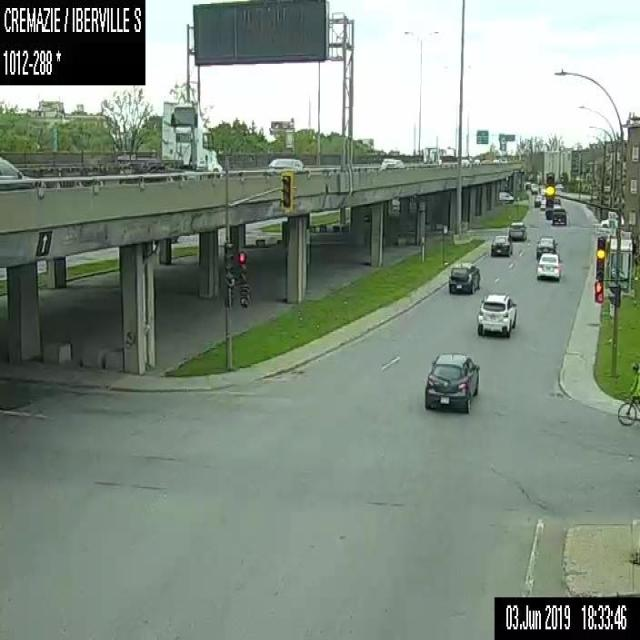cyclist: (616, 358, 639, 426)
vehicle: (28, 99, 223, 186), (422, 342, 480, 410), (476, 291, 516, 336), (0, 154, 42, 190), (448, 262, 480, 294), (268, 157, 308, 176), (536, 251, 560, 279), (535, 234, 557, 258), (490, 233, 512, 256), (507, 221, 526, 240), (552, 206, 566, 225), (545, 202, 560, 218), (386, 158, 406, 168), (498, 190, 514, 202), (379, 157, 394, 168), (460, 156, 470, 167), (599, 218, 608, 230), (530, 182, 537, 193), (472, 157, 480, 166), (534, 194, 540, 205), (540, 199, 546, 210), (538, 184, 544, 194), (554, 186, 560, 194), (554, 196, 560, 204), (525, 181, 530, 188)
